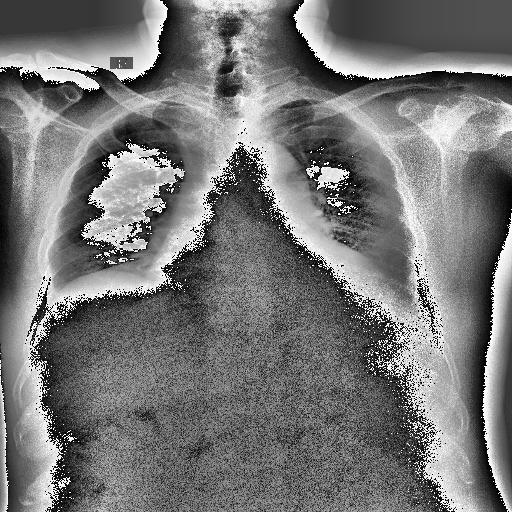0- Aortic enlargement: (233, 140, 318, 204), (232, 143, 314, 203), (238, 141, 308, 194)
3- Cardiomegaly: (147, 232, 399, 318), (145, 239, 399, 316), (144, 250, 396, 322)
